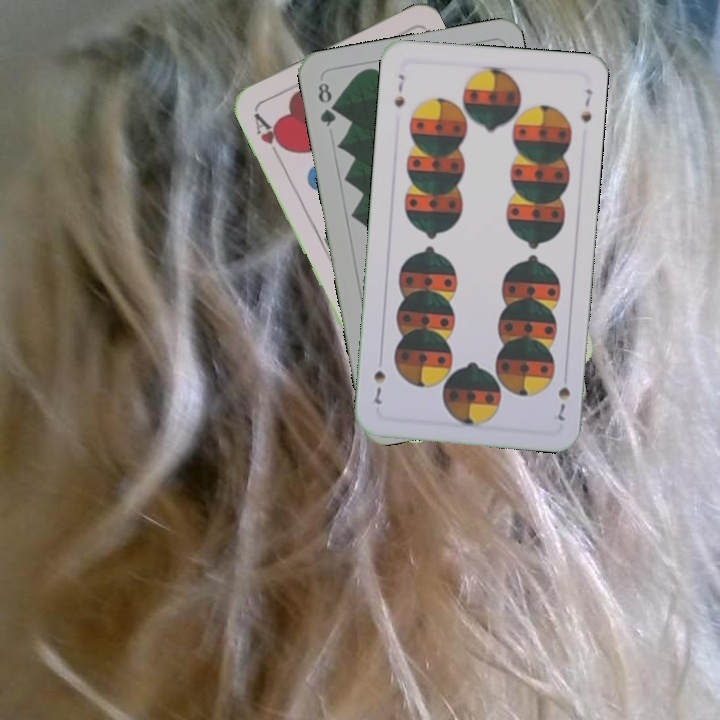G8: (314, 78, 339, 130)
HA: (249, 105, 290, 161)
S7: (553, 382, 573, 424), (390, 70, 408, 110)
